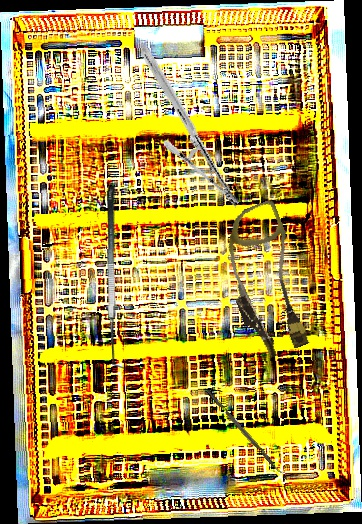Cannula: (206, 198, 326, 363)
Chopper: (206, 385, 287, 478)
Needle Holder: (97, 46, 283, 208)
Spatula Surgical: (102, 185, 131, 370)
